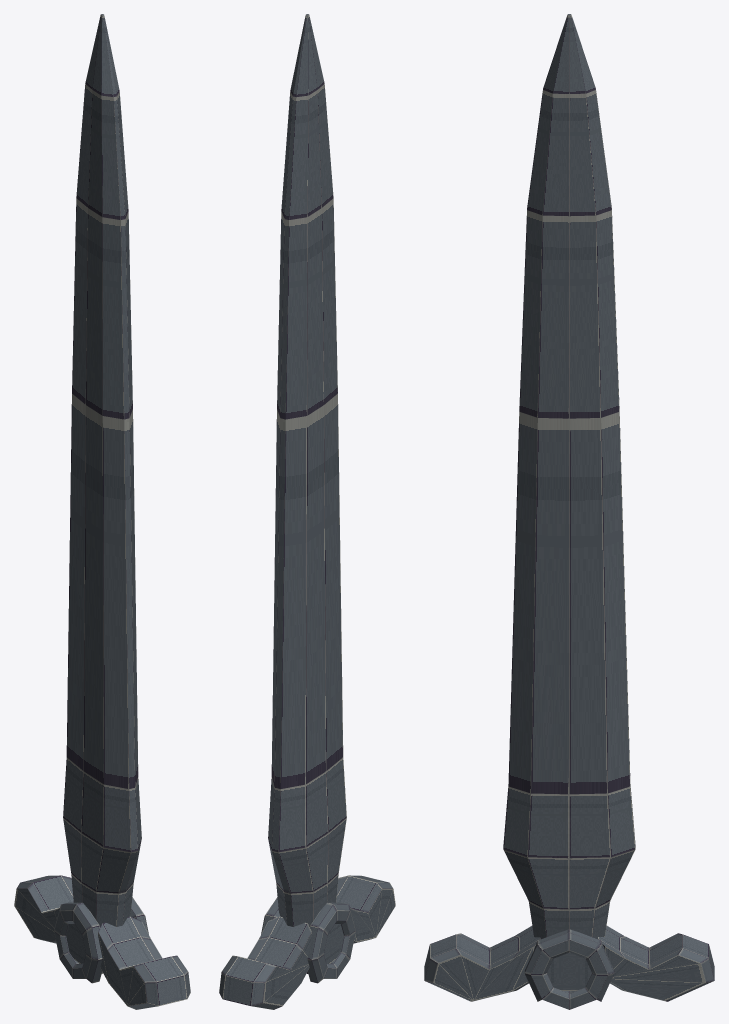
File: workpiece_qingxiao_liuyun_sword_tempered.obj
3 renders of one model, left to right at view 1: azimuth 30°, elevation 25°; view 2: azimuth 150°, elevation 25°; view 3: azimuth 270°, elevation 25°, orthographic. The views are drawn at different scales.
Visible parts, largest first — view 1: geometry; view 2: geometry; view 3: geometry.
Boxes of the visible parts, bbox=[...] form: geometry: bbox=[14, 14, 190, 1009]; geometry: bbox=[219, 14, 395, 1009]; geometry: bbox=[424, 14, 714, 1009].
Size of the model in its own units: 0.0844 by 1.31 by 0.3513.
